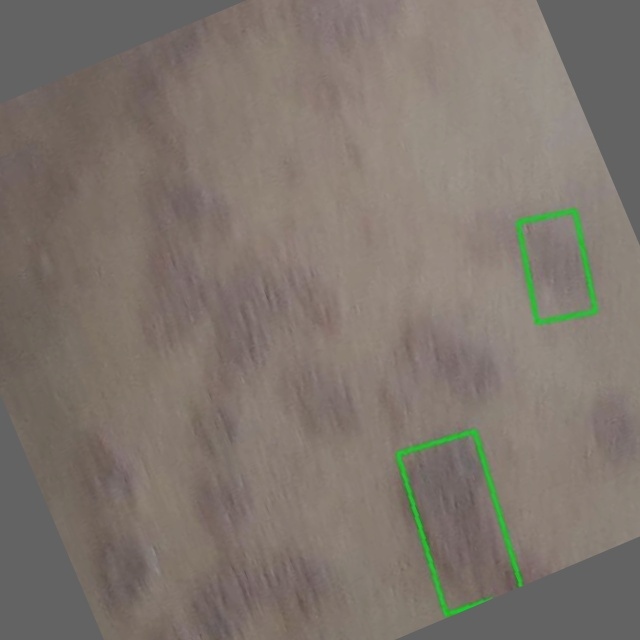Tinea Corporis: (398, 430, 521, 613), (518, 210, 595, 321)
